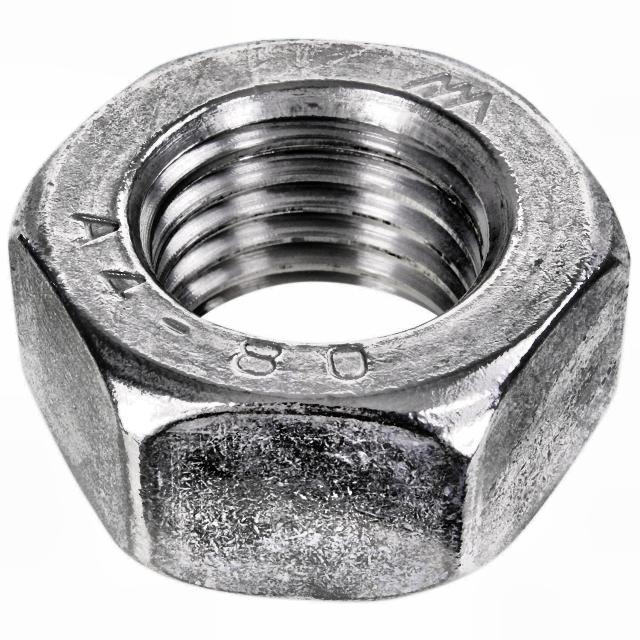Nut Detection - v1 Nut Dataset: (4, 13, 632, 605)
